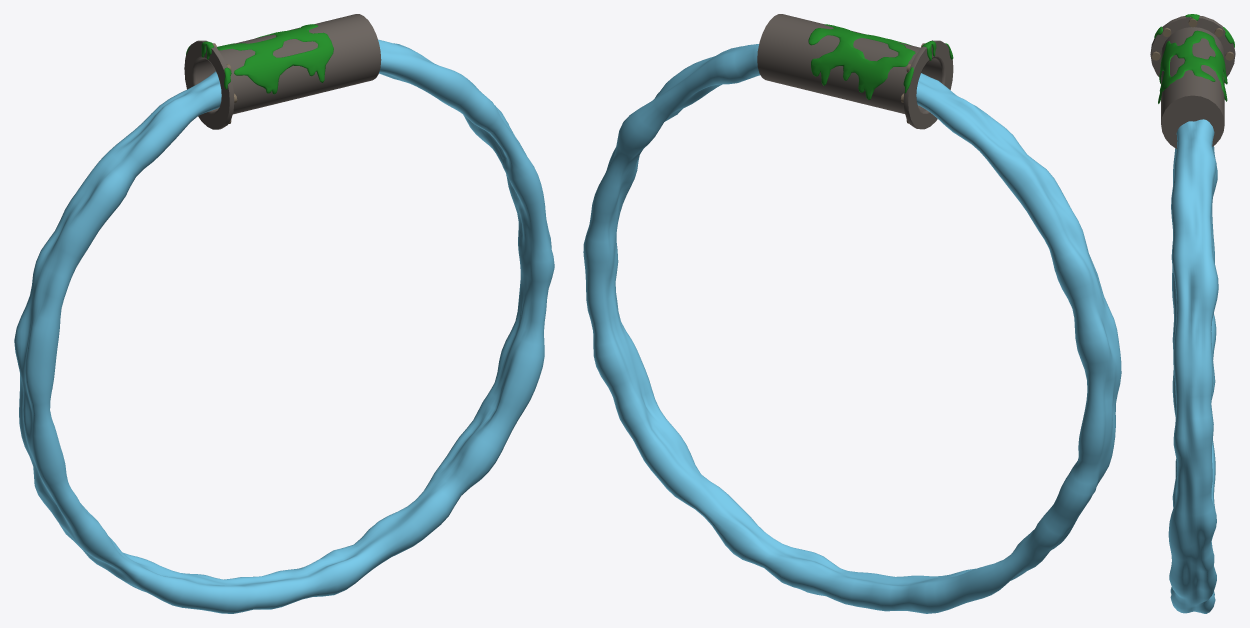
The model's file is pipe.fbx.
The picture shows the model from 3 angles, left to right: view 1: azimuth 30°, elevation 25°; view 2: azimuth 150°, elevation 25°; view 3: azimuth 270°, elevation 25°; orthographic projection. The views are drawn at different scales.
Visible parts, largest first — view 1: Circle.004, Circle, Circle.001; view 2: Circle.004, Circle, Circle.001; view 3: Circle.004, Circle, Circle.001.
Part boxes in pixels (x1,y1,x2,y2): Circle.004: [14, 39, 554, 613]; Circle: [184, 14, 381, 129]; Circle.001: [186, 24, 333, 94]; Circle.004: [583, 44, 1121, 613]; Circle: [757, 14, 953, 129]; Circle.001: [808, 24, 953, 99]; Circle.004: [1168, 119, 1218, 613]; Circle: [1150, 16, 1235, 148]; Circle.001: [1154, 14, 1234, 103].
Size of the model in its own units: 14.55 by 15.14 by 2.17.
